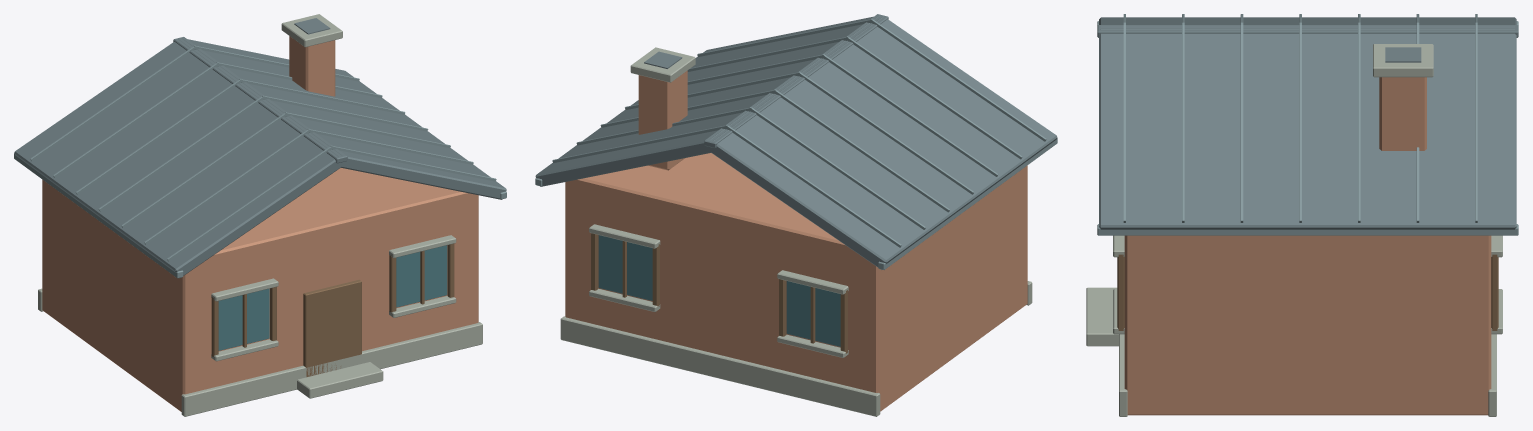
Rendered from house.glb.
3 views of the same model, side by side, from view 1: azimuth 30°, elevation 25°; view 2: azimuth 150°, elevation 25°; view 3: azimuth 270°, elevation 25° (orthographic). The views are drawn at different scales.
Parts seen in each view (by area): view 1: Cube, Cube.003, Cube.006, Detail foundation, Cube.007, Cube.002, Cube.001, Cube.008, Detail ridge cap, Detail doorstep, Detail chimney cap, Detail gutter (+19 smaller); view 2: Cube, Cube.003, Cube.006, Detail foundation.001, Cube.008, Cube.004, Cube.005, Detail ridge cap, Detail chimney cap, Detail gutter, Detail roof standing seam.004, Detail roof standing seam.006 (+16 smaller); view 3: Cube.006, Cube, Cube.003, Detail ridge cap, Cube.008, Detail gutter.001, Detail doorstep, Detail chimney cap, Detail roof standing seam.009, Detail window jamb.003, Detail window jamb.007, Detail roof standing seam.008 (+7 smaller).
Boxes of the visible parts, x1,y1,x2,y2 form: Cube: (42, 168, 478, 411); Cube.003: (14, 39, 343, 278); Cube.006: (181, 38, 506, 199); Detail foundation: (181, 322, 482, 416); Cube.007: (303, 279, 361, 377); Cube.002: (396, 245, 447, 307); Cube.001: (218, 288, 269, 350); Cube.008: (289, 36, 335, 96); Detail ridge cap: (173, 37, 347, 163); Detail doorstep: (297, 362, 383, 398); Detail chimney cap: (281, 14, 342, 47); Detail gutter: (14, 153, 183, 278); Cube: (565, 153, 1027, 411); Cube.003: (709, 16, 1057, 269); Cube.006: (535, 15, 879, 186); Detail foundation.001: (560, 316, 880, 416); Cube.008: (638, 70, 687, 170); Cube.004: (786, 281, 840, 346); Cube.005: (598, 235, 652, 300); Detail ridge cap: (704, 14, 888, 148); Detail chimney cap: (630, 47, 695, 82); Detail gutter: (878, 138, 1057, 269); Detail roof standing seam.004: (773, 89, 949, 212); Detail roof standing seam.006: (725, 124, 901, 247); Cube.006: (1099, 29, 1516, 229); Cube: (1124, 235, 1491, 415); Cube.003: (1099, 17, 1516, 27); Detail ridge cap: (1097, 25, 1518, 37); Cube.008: (1379, 77, 1426, 150); Detail gutter.001: (1097, 224, 1518, 235); Detail doorstep: (1086, 287, 1118, 346); Detail chimney cap: (1373, 44, 1433, 77); Detail roof standing seam.009: (1240, 22, 1243, 222); Detail window jamb.003: (1117, 254, 1124, 330); Detail window jamb.007: (1491, 254, 1498, 330); Detail roof standing seam.008: (1182, 22, 1184, 222).
Bounding box in the file's own units: 6.73 × 4.9 × 5.9.
